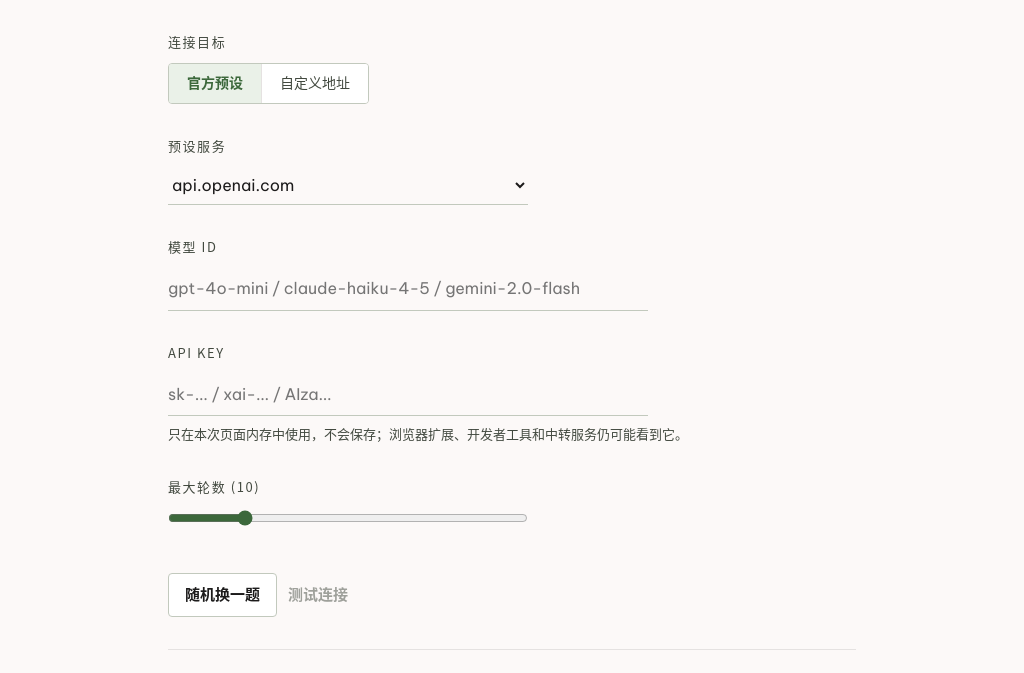
Test: AI 试炼场页面 · 试炼交互（取消与轮数） › 请求失败显示中文错误与未消耗轮数提示，且可重试
The image size is (1024, 673).
(page scrolled)
Step 1. Type "gpt-4o-mini" into the field labelled "模型 ID" → [408, 289], box [168,268,648,311]
Step 2. Type "sk-page-sentinel-must-never-persist" into the password field labelled "API Key" → [408, 395], box [168,374,648,416]
(page scrolled)
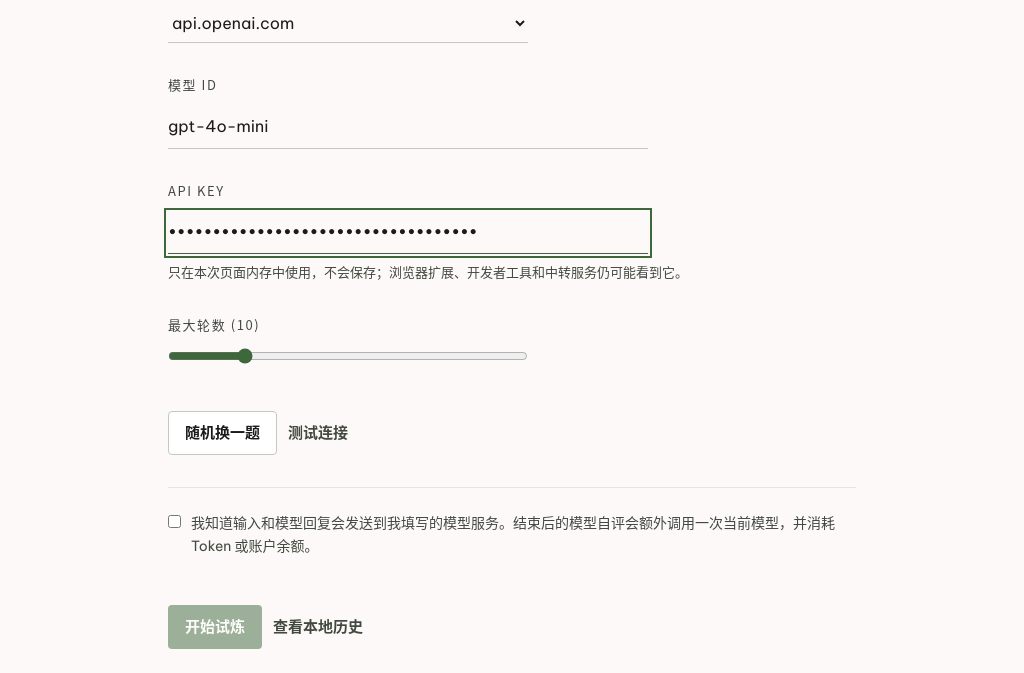
Step 3. Click the checkbox labelled "我知道输入和模型回复会发送到我填写的模型服务。结束后的模型自评会额外调用一次当前模型，并消耗 Token 或账户余额。" → [174, 522], box [168,515,181,528]
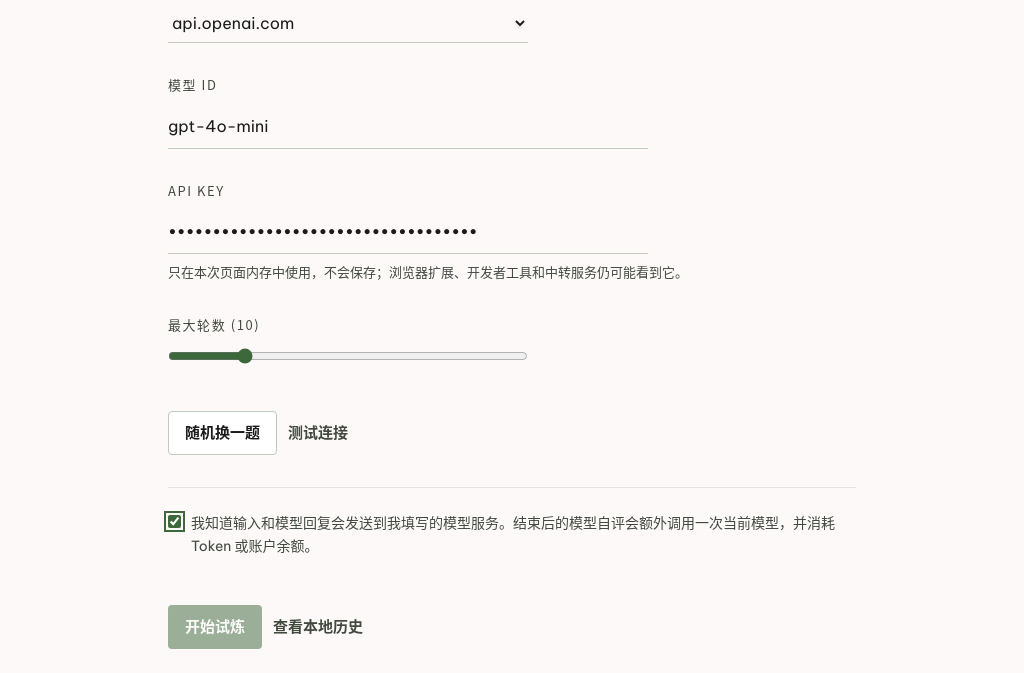
Step 4. Click the button "随机换一题" → [222, 433], box [168,411,277,455]
(page scrolled)
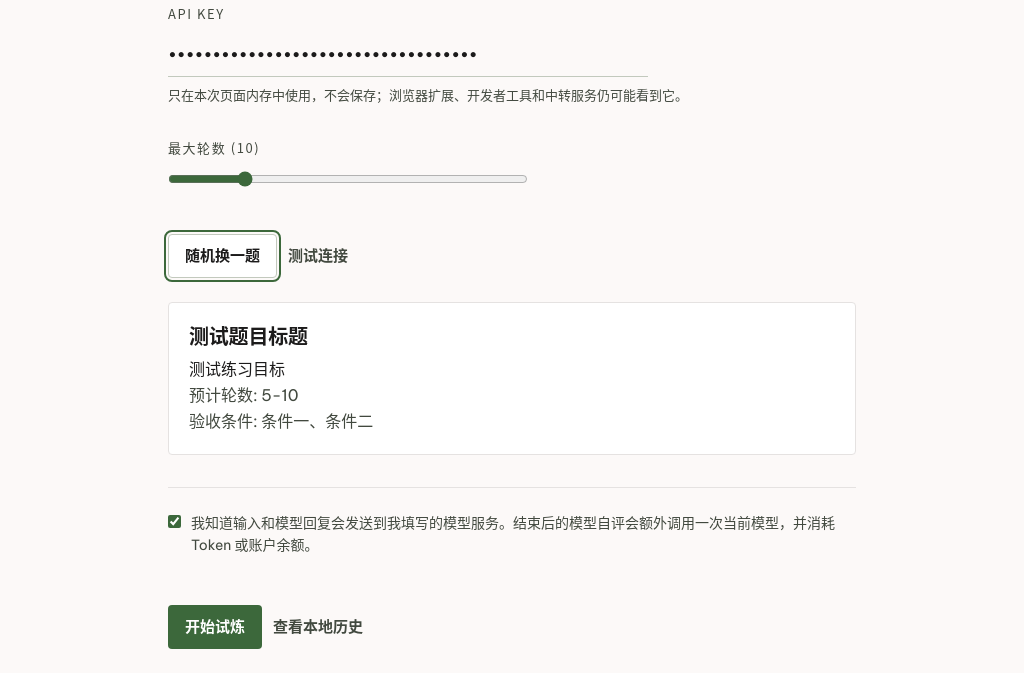
Step 5. Click the button "开始试炼" → [215, 627], box [168,605,262,649]
(page scrolled)
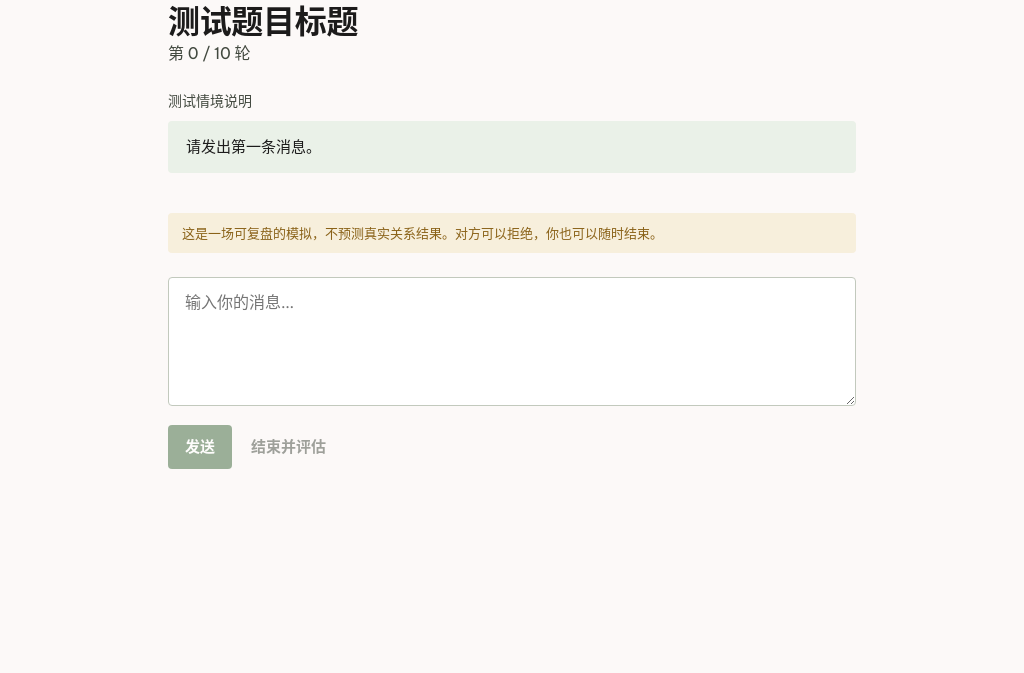
Step 6. Type "一句正常的话。" into the text box named "你的回应" → [512, 342], box [168,277,856,406]
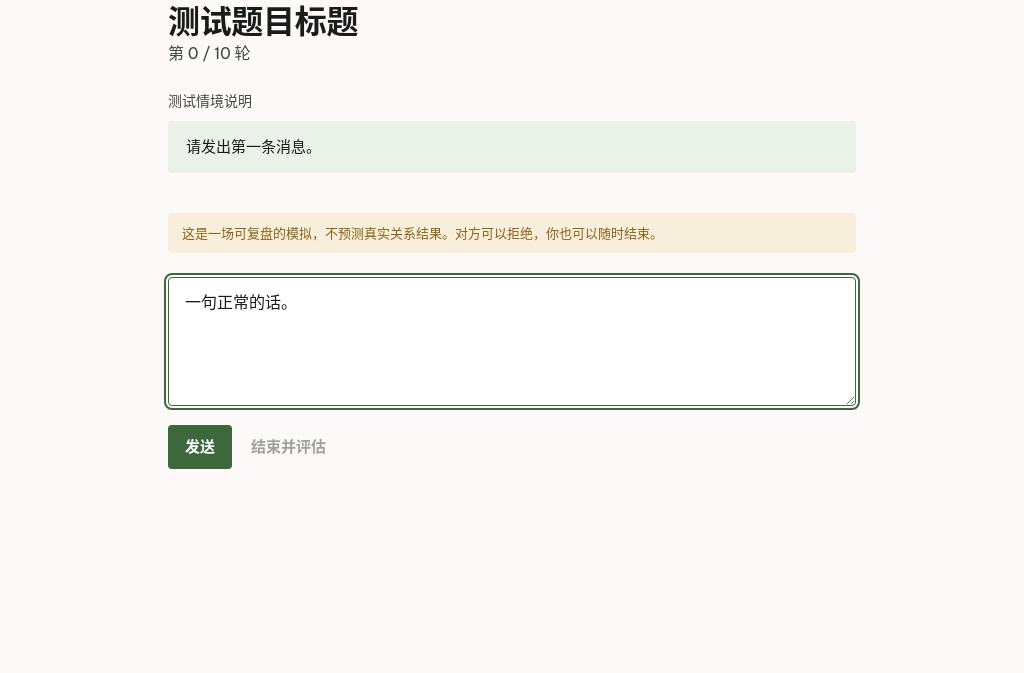
Step 7. Click the button "发送" → [200, 447], box [168,425,232,469]
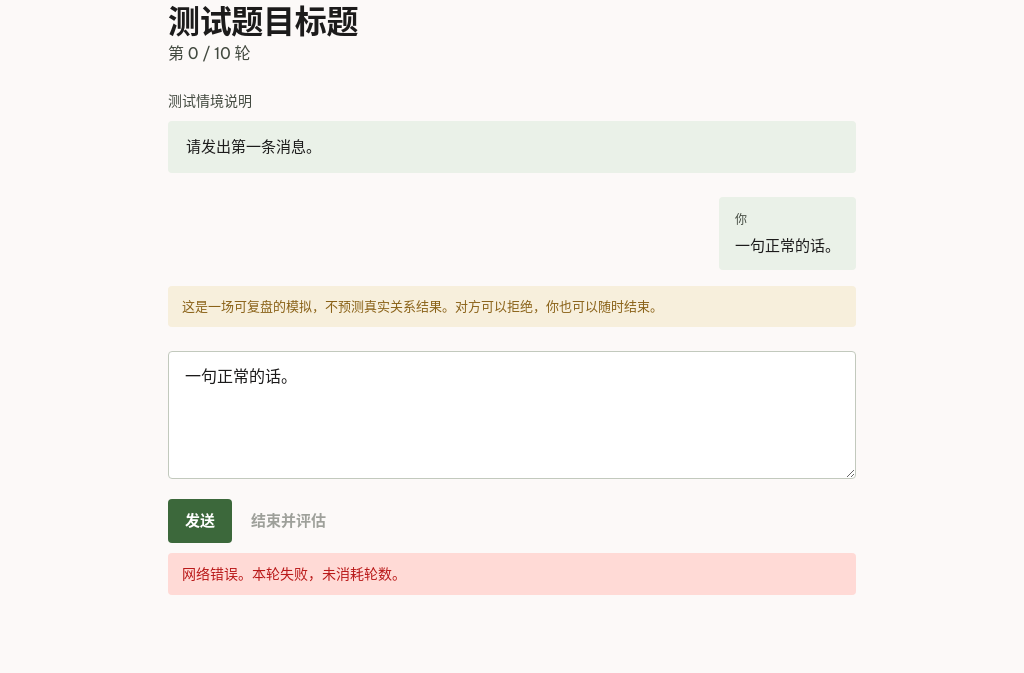
Expected: the text "第 0 / 10 轮" is shown, [168,43,251,63]
Expected: the button "发送" is enabled, [168,498,232,542]
Expected: the text "网络错误。本轮失败，未消耗轮数。" is shown, [168,552,856,595]
